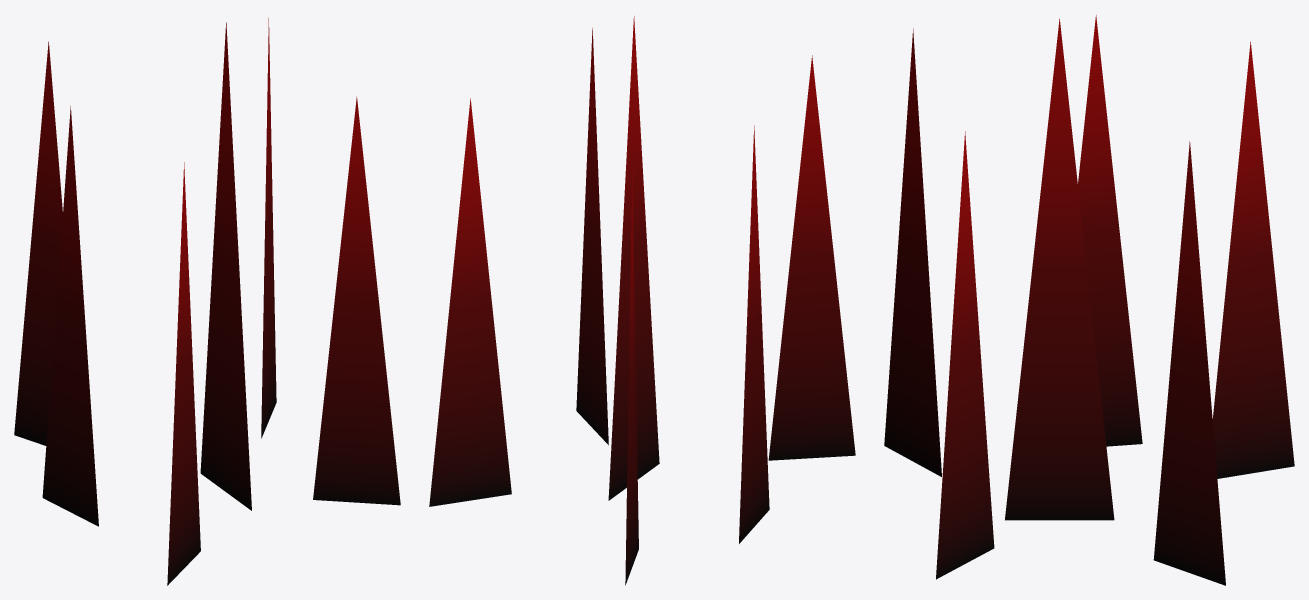
Rendered from GrassTriangle_Big.fbx.
3 renders of one model, left to right at view 1: azimuth 30°, elevation 25°; view 2: azimuth 150°, elevation 25°; view 3: azimuth 270°, elevation 25°, orthographic. The views are drawn at different scales.
Visible parts, largest first — view 1: Grass; view 2: Grass; view 3: Grass.
Boxes of the visible parts, bbox=[...] form: Grass: bbox=[14, 18, 400, 585]; Grass: bbox=[429, 16, 855, 585]; Grass: bbox=[884, 15, 1294, 585].
Bounding box in the file's own units: 32.96 × 54.49 × 40.28.
